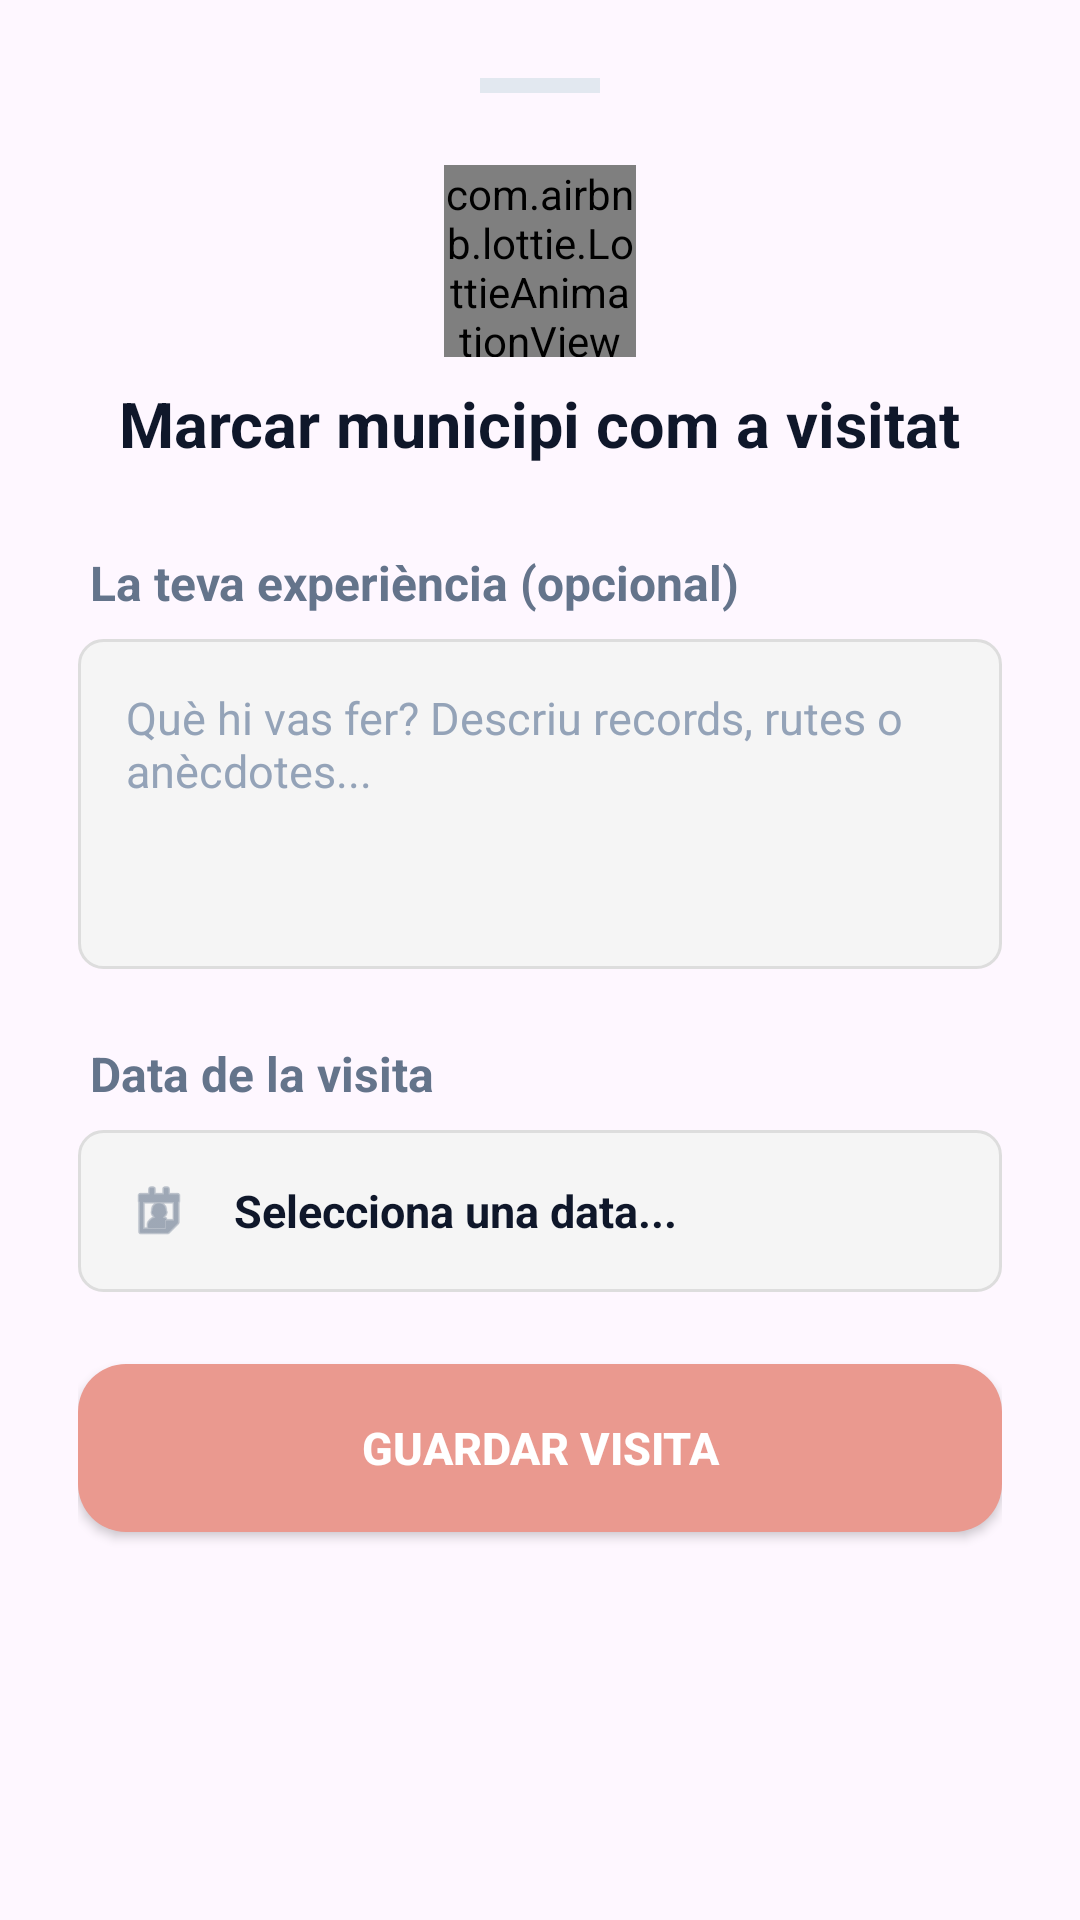

Named icons in this screenshot (1080 x 1920) and their bounding boxes, (x1, y1, x2, y2):
calendar: (138, 1186, 180, 1234)
